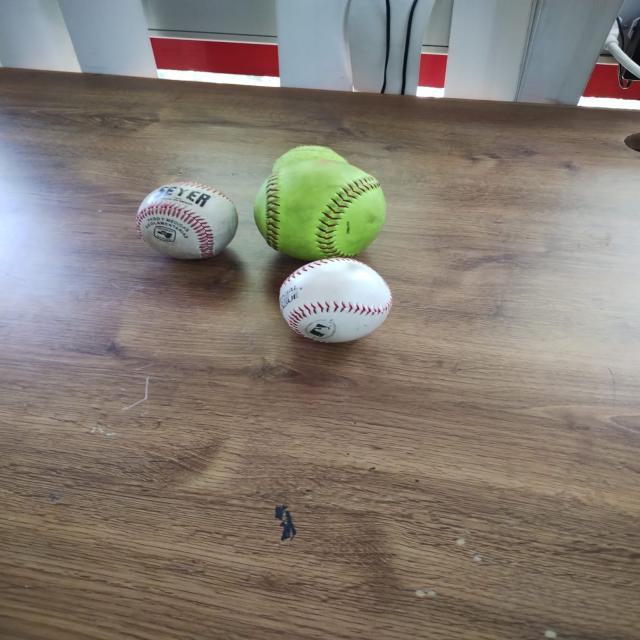beisbol ball: (278, 258, 394, 342), (135, 181, 241, 259)
softball ball: (252, 147, 388, 260)
tenis ball: (278, 145, 346, 197)
